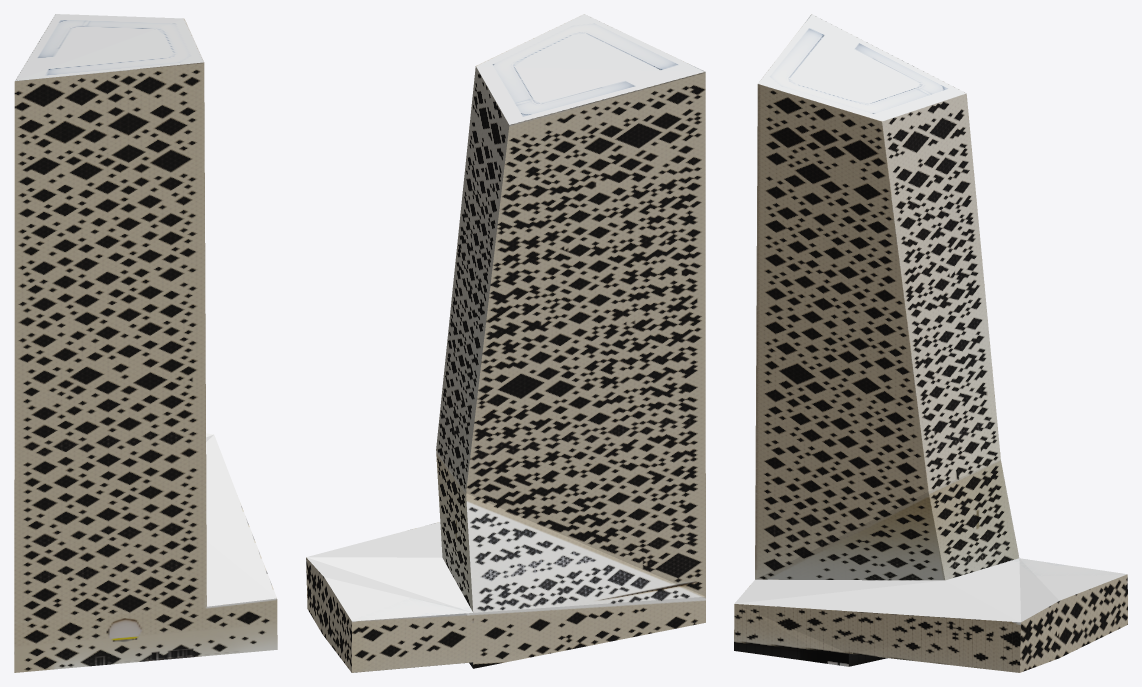
3 views of the same model, side by side, from view 1: azimuth 30°, elevation 25°; view 2: azimuth 150°, elevation 25°; view 3: azimuth 270°, elevation 25° (orthographic). The views are drawn at different scales.
Visible parts, largest first — view 1: 110A.001; view 2: 110A.001; view 3: 110A.001.
Part boxes in pixels (x1,y1,x2,y2): 110A.001: [14, 14, 277, 672]; 110A.001: [306, 14, 705, 672]; 110A.001: [734, 14, 1127, 672].
Bounding box in the file's own units: 76.44 × 138 × 90.89.
Materials: 1 (1 with a texture image).
